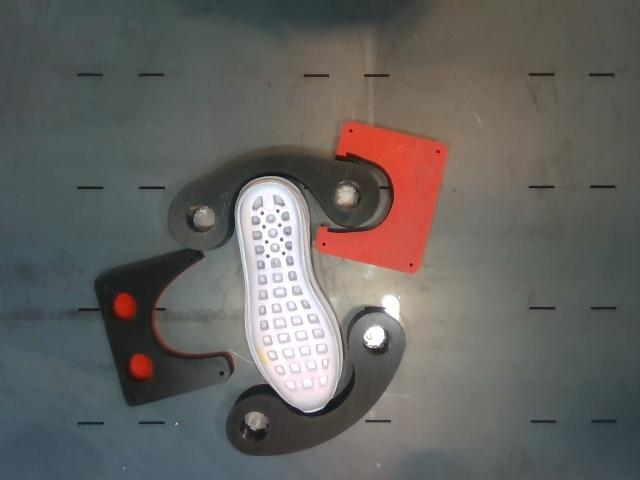shoes: (238, 183, 337, 412)
